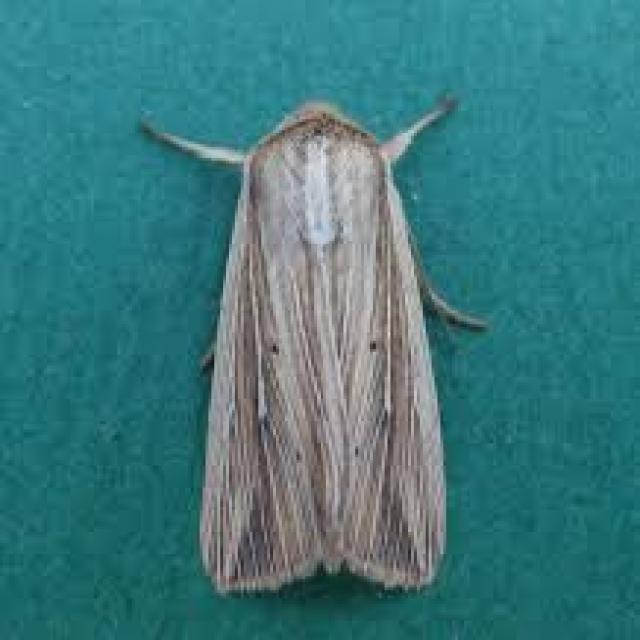yellow-stem-borer: (73, 51, 544, 623)
